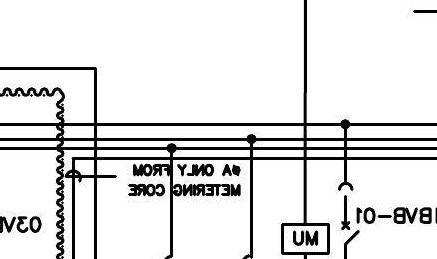MU: (280, 222, 331, 256)
